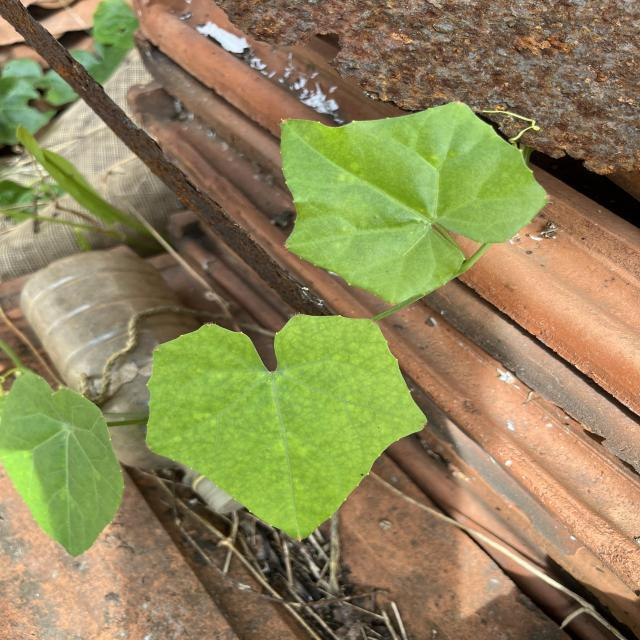Coccinia grandis: (142, 312, 432, 544), (277, 99, 553, 306)
